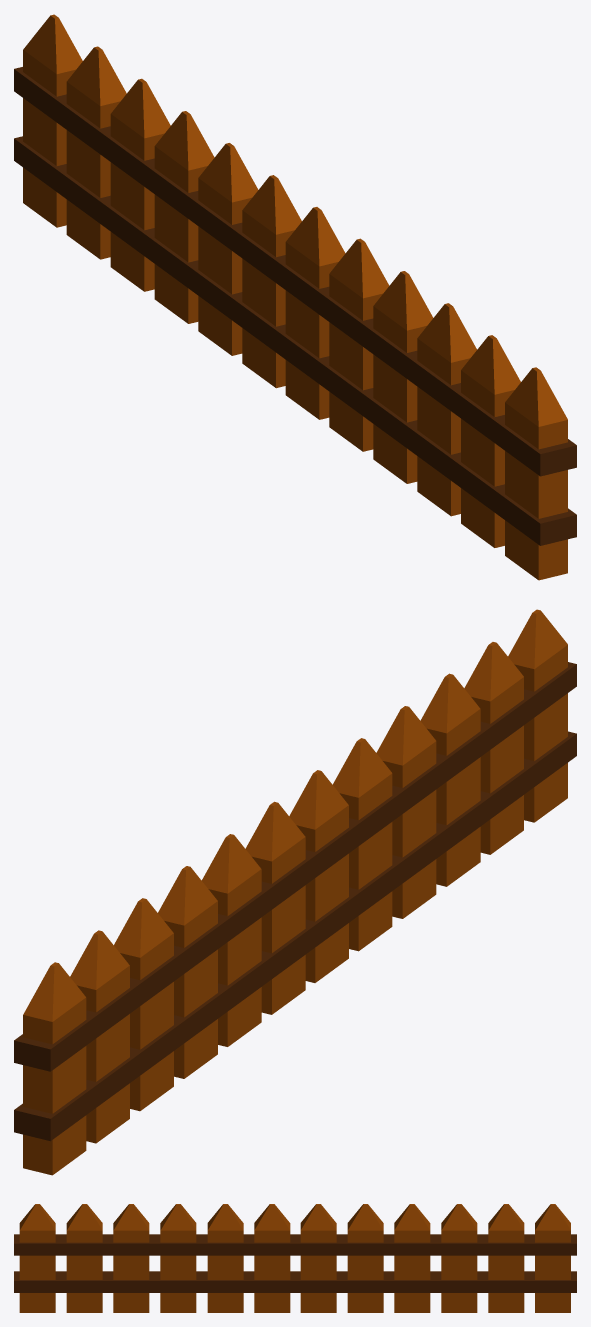
Rendered from fencecolored.fbx.
3 views of the same model, one above another, from view 1: azimuth 30°, elevation 25°; view 2: azimuth 150°, elevation 25°; view 3: azimuth 270°, elevation 25° (orthographic). The views are drawn at different scales.
Visible parts, largest first — view 1: Cube.013, Cube.012, Cube.011, Cube.001, Cube.002, Cube.004, Cube.008, Cube.003, Cube.006, Cube.007, Cube.009, Cube.010 (+2 smaller); view 2: Cube.013, Cube.012, Cube, Cube.005, Cube.009, Cube.008, Cube.002, Cube.003, Cube.004, Cube.007, Cube.011, Cube.001 (+2 smaller); view 3: Cube.012, Cube.013, Cube.002, Cube.005, Cube.006, Cube.001, Cube.003, Cube.004, Cube.007, Cube.008, Cube.009, Cube.010 (+2 smaller).
Part boxes in pixels (box(x1,y1,x2,y2)): Cube.013: box(14, 136, 576, 545); Cube.012: box(14, 67, 576, 476); Cube.011: box(505, 367, 567, 580); Cube.001: box(66, 46, 126, 259); Cube.002: box(110, 78, 170, 291); Cube.004: box(198, 143, 258, 355); Cube.008: box(373, 271, 433, 483); Cube.003: box(154, 111, 214, 323); Cube.006: box(285, 207, 345, 419); Cube.007: box(329, 238, 389, 451); Cube.009: box(417, 303, 476, 516); Cube.010: box(461, 335, 520, 547); Cube.013: box(14, 731, 576, 1141); Cube.012: box(14, 662, 576, 1071); Cube: box(23, 962, 86, 1175); Cube.005: box(245, 801, 305, 1014); Cube.009: box(420, 673, 480, 886); Cube.008: box(376, 706, 436, 918); Cube.002: box(114, 898, 173, 1111); Cube.003: box(158, 866, 217, 1078); Cube.004: box(201, 834, 261, 1046); Cube.007: box(332, 738, 392, 951); Cube.011: box(508, 609, 567, 822); Cube.001: box(70, 930, 129, 1143); Cube.012: box(14, 1234, 576, 1255); Cube.013: box(14, 1271, 576, 1292); Cube.002: box(441, 1204, 477, 1312); Cube.005: box(300, 1204, 336, 1312); Cube.006: box(254, 1204, 290, 1312); Cube.001: box(488, 1204, 524, 1312); Cube.003: box(394, 1204, 430, 1312); Cube.004: box(347, 1204, 383, 1312); Cube.007: box(207, 1204, 243, 1312); Cube.008: box(160, 1204, 196, 1312); Cube.009: box(113, 1204, 149, 1312); Cube.010: box(66, 1204, 102, 1312).
Size of the model in its own units: 81.55 by 415 by 2031.
